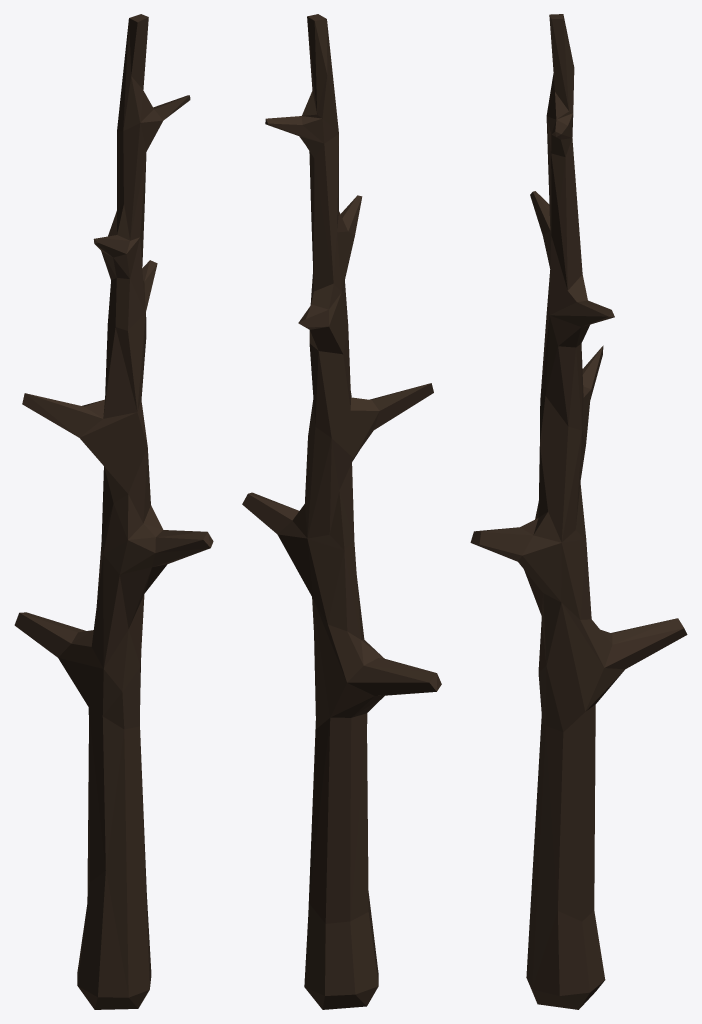
File: dead_tree_3.glb
3 renders of one model, left to right at view 1: azimuth 30°, elevation 25°; view 2: azimuth 210°, elevation 25°; view 3: azimuth 270°, elevation 25°, orthographic.
Visible parts, largest first — view 1: dead_tree_3; view 2: dead_tree_3; view 3: dead_tree_3.
Part boxes in pixels (x1,y1,x2,y2): dead_tree_3: (14, 14, 213, 1009); dead_tree_3: (242, 14, 441, 1009); dead_tree_3: (470, 14, 687, 1009).
Bounding box in the file's own units: 1.17 × 7.6 × 1.5.
